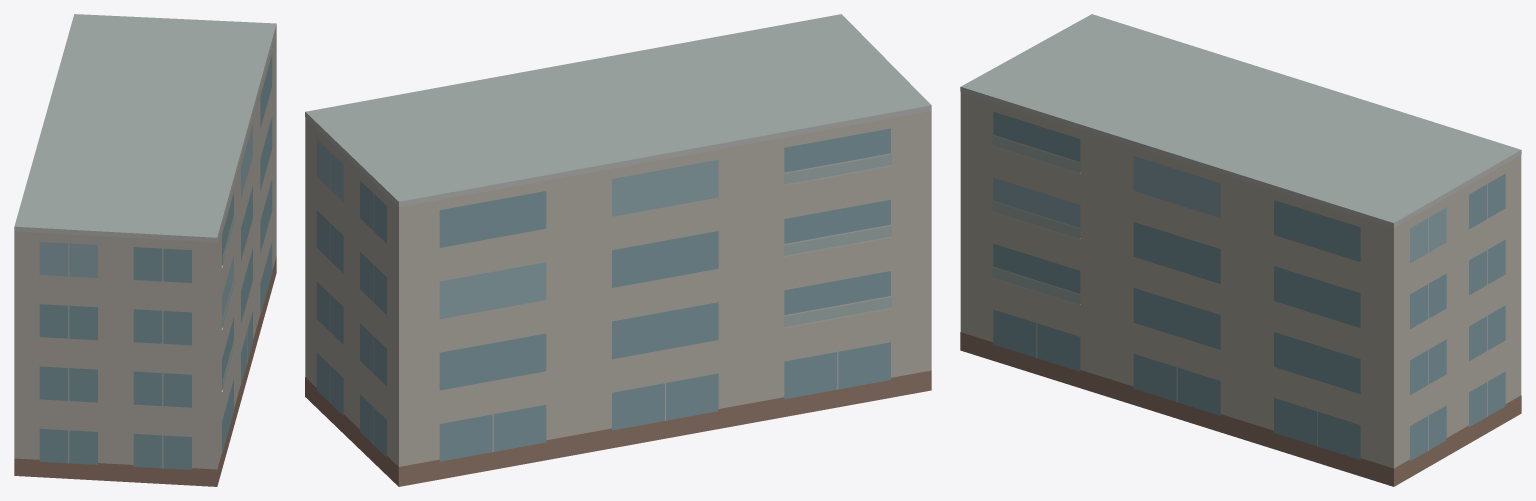
The model's file is survey-upis-32631777.glb.
3 renders of one model, left to right at view 1: azimuth 30°, elevation 25°; view 2: azimuth 150°, elevation 25°; view 3: azimuth 270°, elevation 25°, orthographic. The views are drawn at different scales.
Parts seen in each view (by area): view 1: survey-upis-32631777.tmp; view 2: survey-upis-32631777.tmp; view 3: survey-upis-32631777.tmp.
Part boxes in pixels (box(x1,y1,x2,y2)): survey-upis-32631777.tmp: box(14, 14, 276, 486); survey-upis-32631777.tmp: box(305, 14, 931, 486); survey-upis-32631777.tmp: box(960, 14, 1521, 486).
Bounding box in the file's own units: 21.78 × 12.8 × 24.68.
